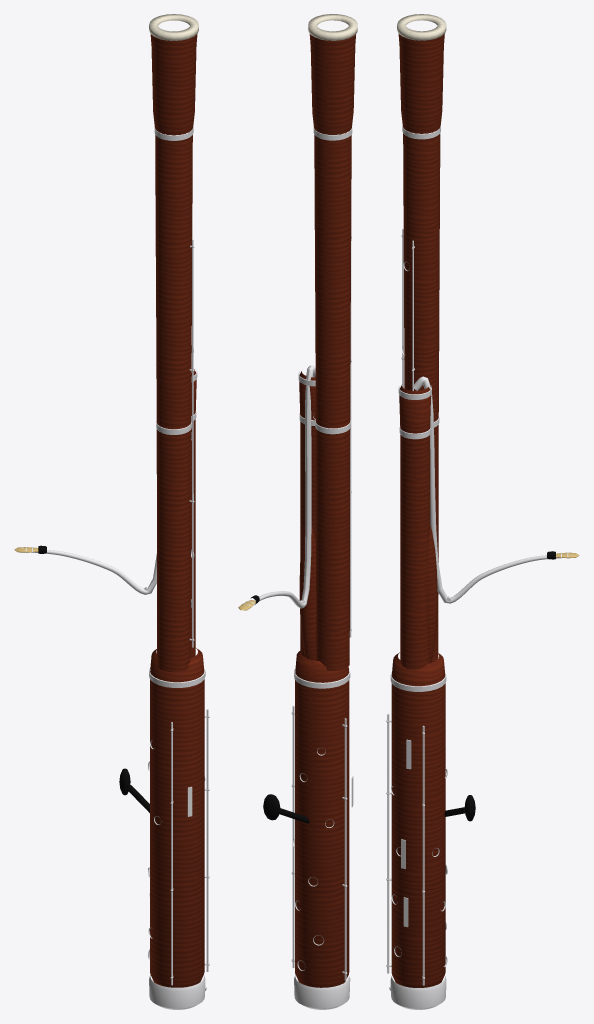
File: bassoon.glb
3 views of the same model, side by side, from view 1: azimuth 90°, elevation 25°; view 2: azimuth 150°, elevation 25°; view 3: azimuth 270°, elevation 25° (orthographic).
Visible parts, largest first — view 1: bassoon_maple_red, bassoon_silver, bassoon_ivory, bassoon_black; view 2: bassoon_maple_red, bassoon_silver, bassoon_ivory, bassoon_black; view 3: bassoon_maple_red, bassoon_silver, bassoon_ivory, bassoon_black.
Part boxes in pixels (x1,y1,x2,y2): bassoon_maple_red: [150, 34, 204, 987]; bassoon_silver: [21, 127, 209, 1009]; bassoon_ivory: [149, 14, 198, 40]; bassoon_black: [38, 545, 149, 812]; bassoon_maple_red: [295, 34, 355, 987]; bassoon_silver: [243, 126, 353, 1009]; bassoon_ivory: [308, 14, 357, 40]; bassoon_black: [250, 595, 309, 823]; bassoon_maple_red: [391, 34, 445, 987]; bassoon_silver: [386, 126, 571, 1009]; bassoon_ivory: [397, 14, 446, 40]; bassoon_black: [444, 551, 555, 821].
Size of the model in its own units: 0.096 by 1.35 by 0.2436.
Materials: 5 (1 with a texture image).
